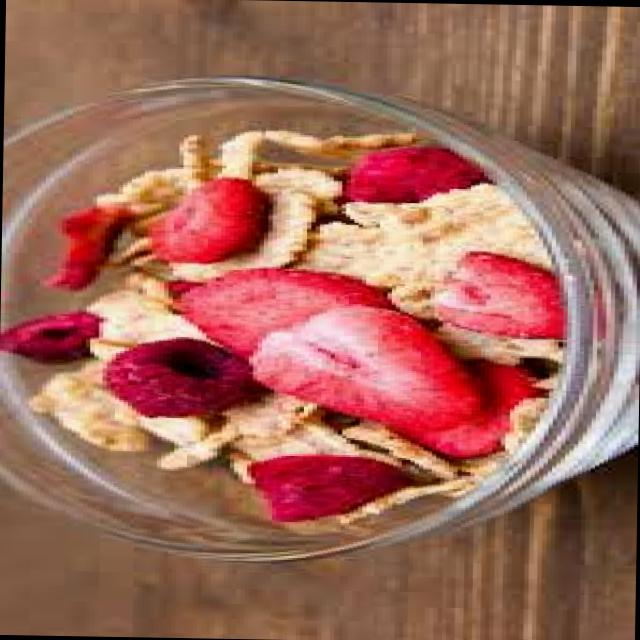organic: (48, 142, 516, 518)
